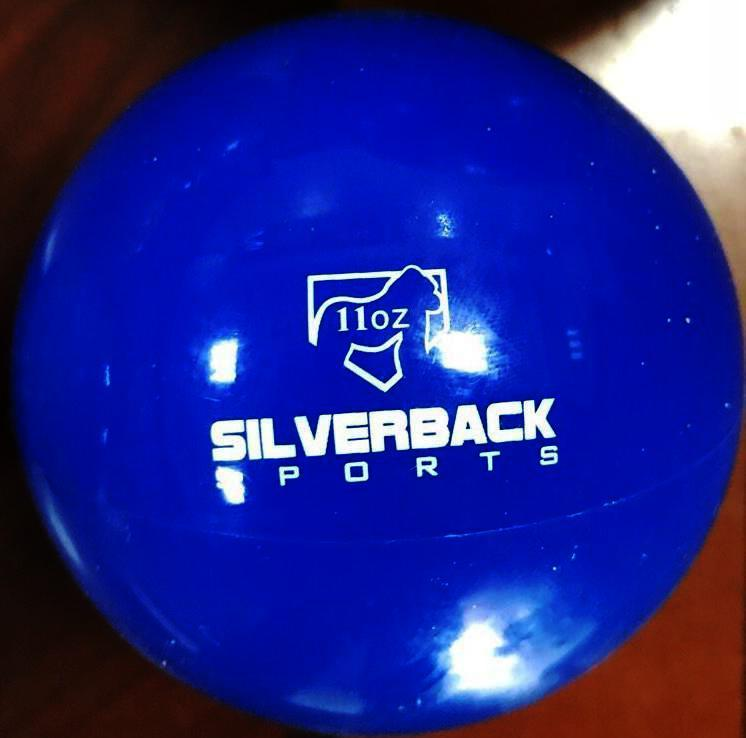blue ball: (14, 10, 746, 736)
